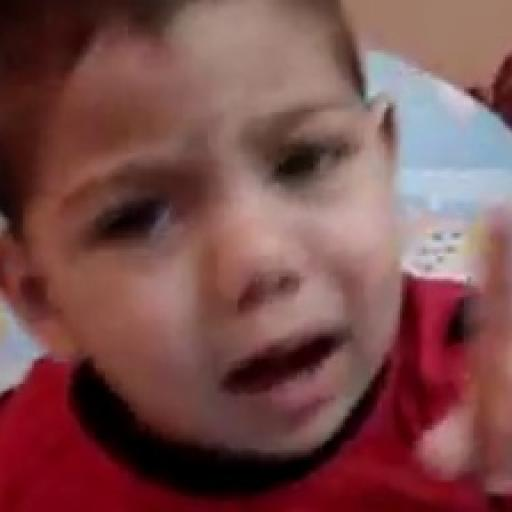Autism: (7, 18, 423, 482)
